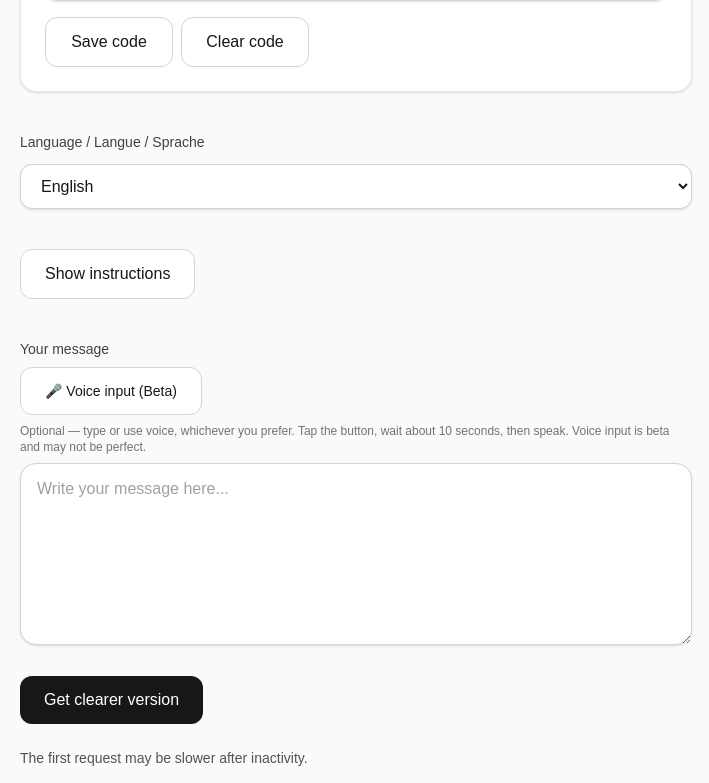
it: Dictation frontend behavior › B. empty transcription shows empty transcript error
The image size is (709, 783).
(page scrolled)
Click the button "🎤 Voice input (Beta)": (111,391) x1=20 y1=367 x2=202 y2=415
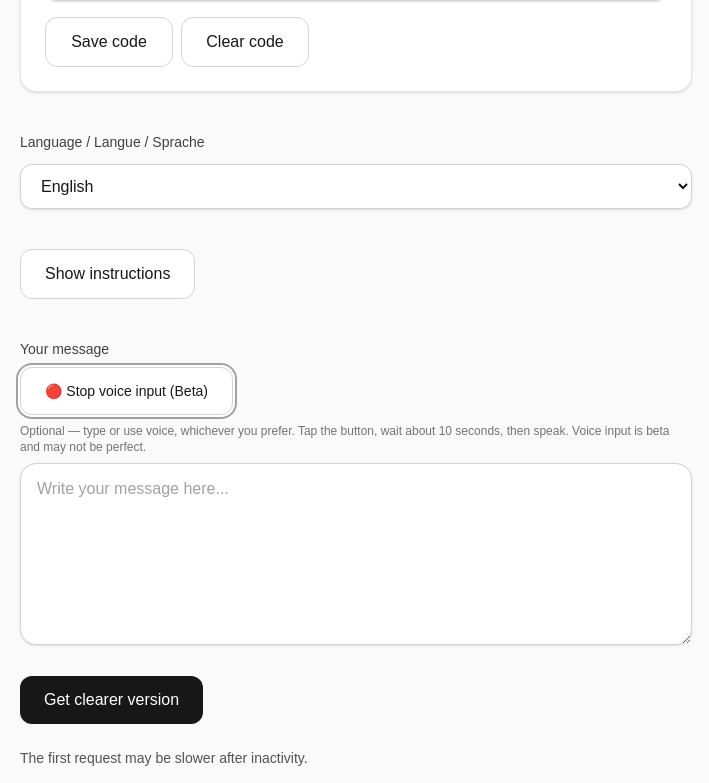
Click the button "🔴 Stop voice input (Beta)": (126,391) x1=20 y1=367 x2=233 y2=415
(page scrolled)
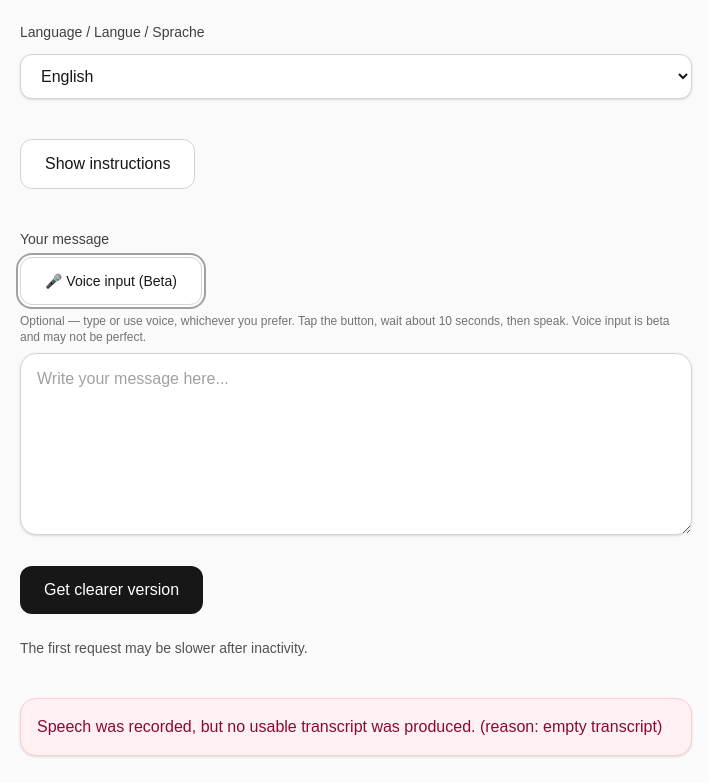
Expected: the text "Speech was recorded, but no usable transcript was produced." is shown, x1=37 y1=718 x2=662 y2=735
